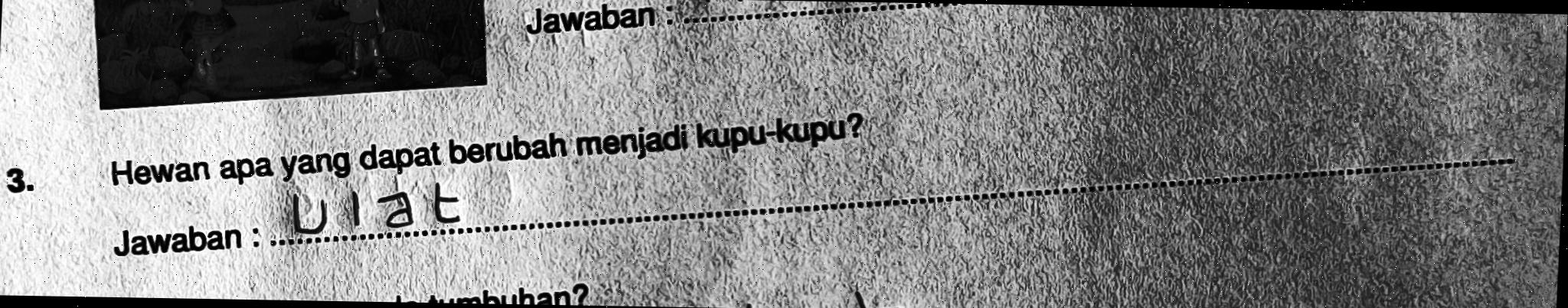jawaban: (281, 173, 477, 242)
